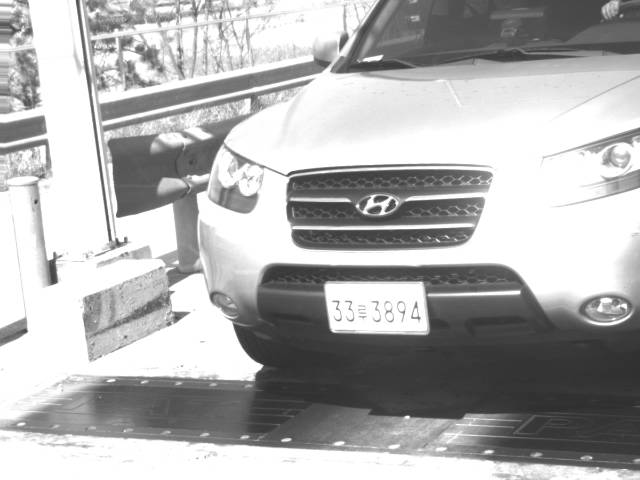car: (196, 1, 640, 369)
plate: (322, 280, 431, 335)
